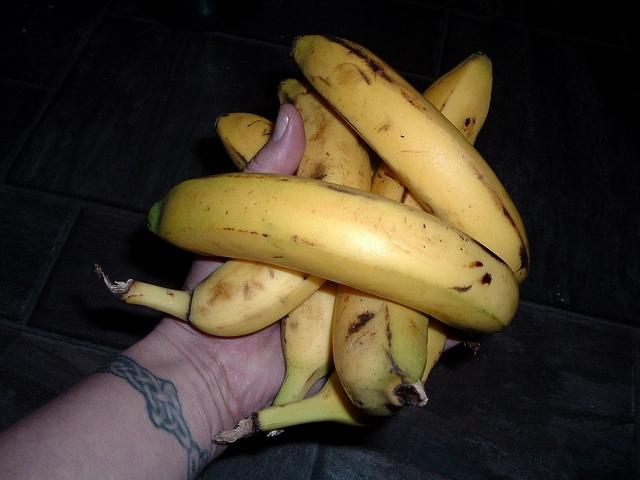banana: (94, 78, 371, 337), (291, 34, 530, 284), (149, 174, 517, 331), (214, 112, 339, 436), (213, 316, 450, 446), (332, 287, 429, 418)
